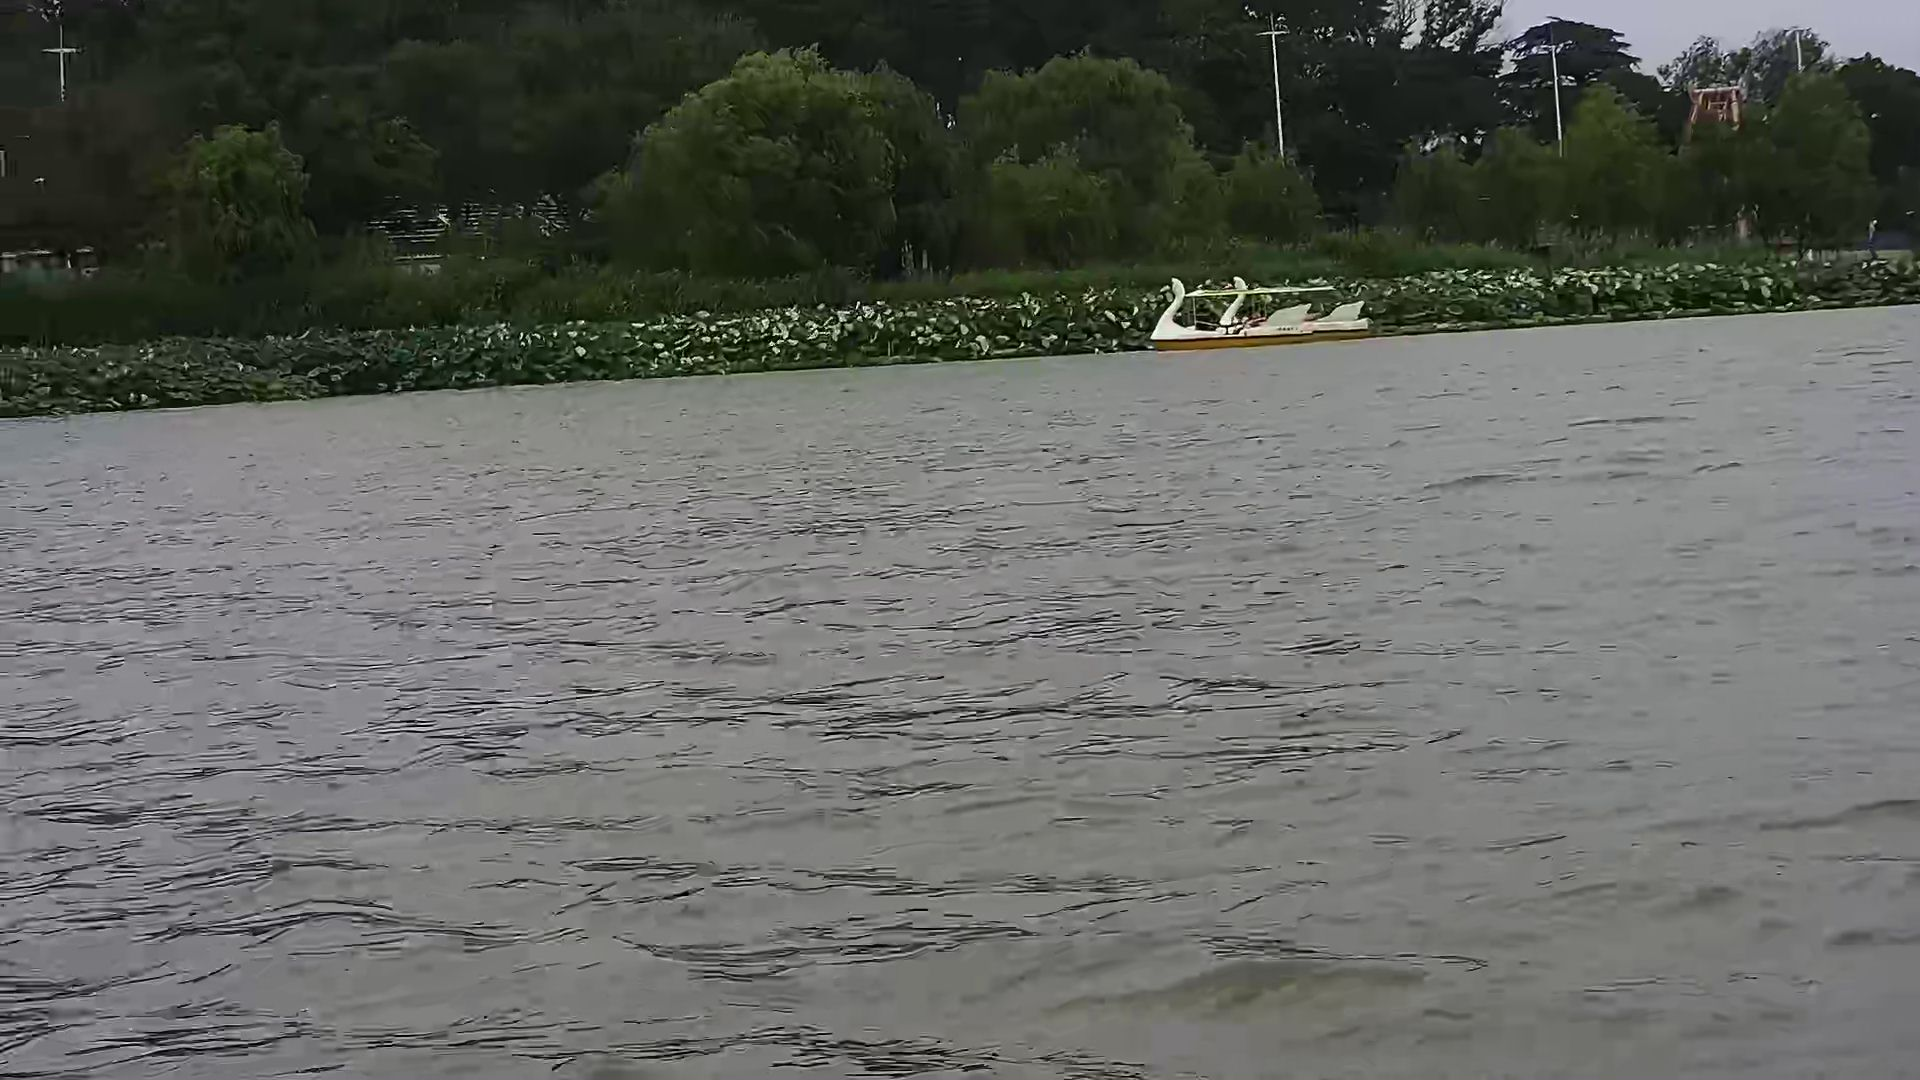boat: (1150, 266, 1385, 339)
